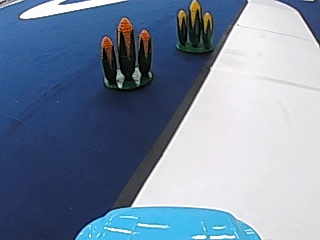corn: (100, 15, 156, 90), (173, 0, 215, 53)
